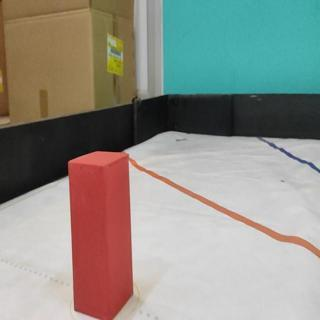redbox: (65, 150, 134, 320)
